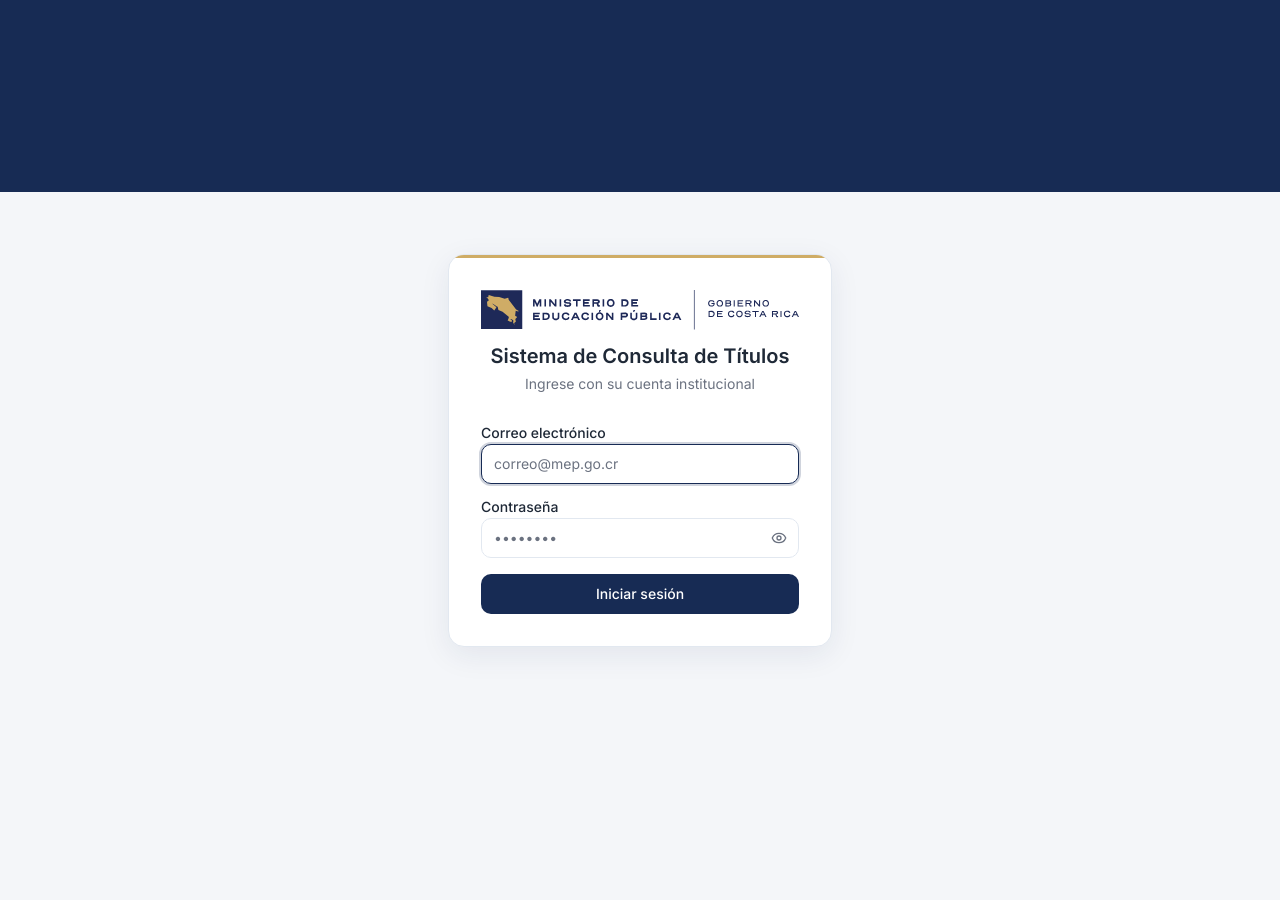
Iniciar sesión › no expone el comando de desarrollo en el error de configuración
Type "a@mep.go.cr" into the field labelled "Correo electrónico" at [640, 464], box left=481, top=444, right=799, bottom=484
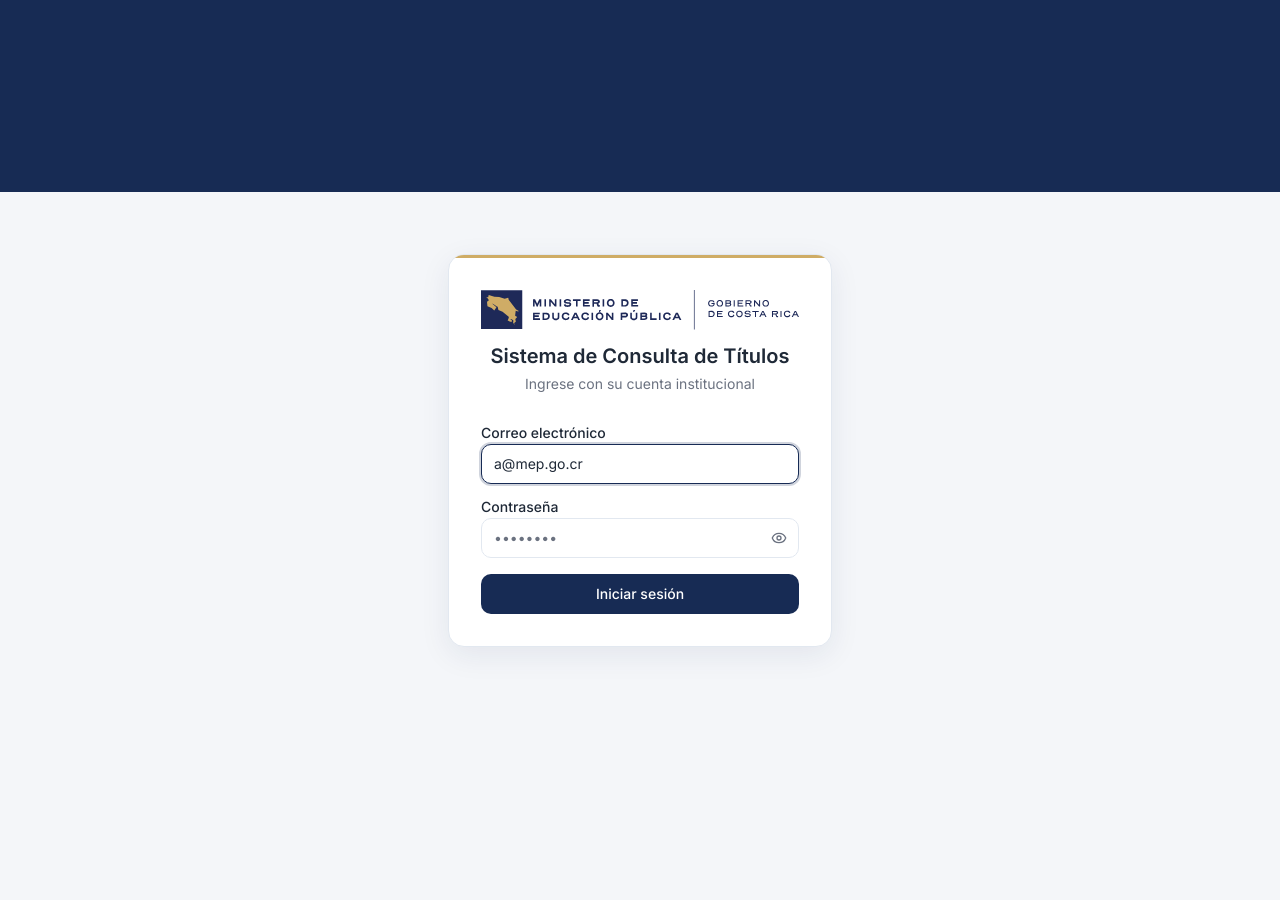
Type "secreto" into the password field labelled "Contraseña" at [640, 538], box left=481, top=518, right=799, bottom=558
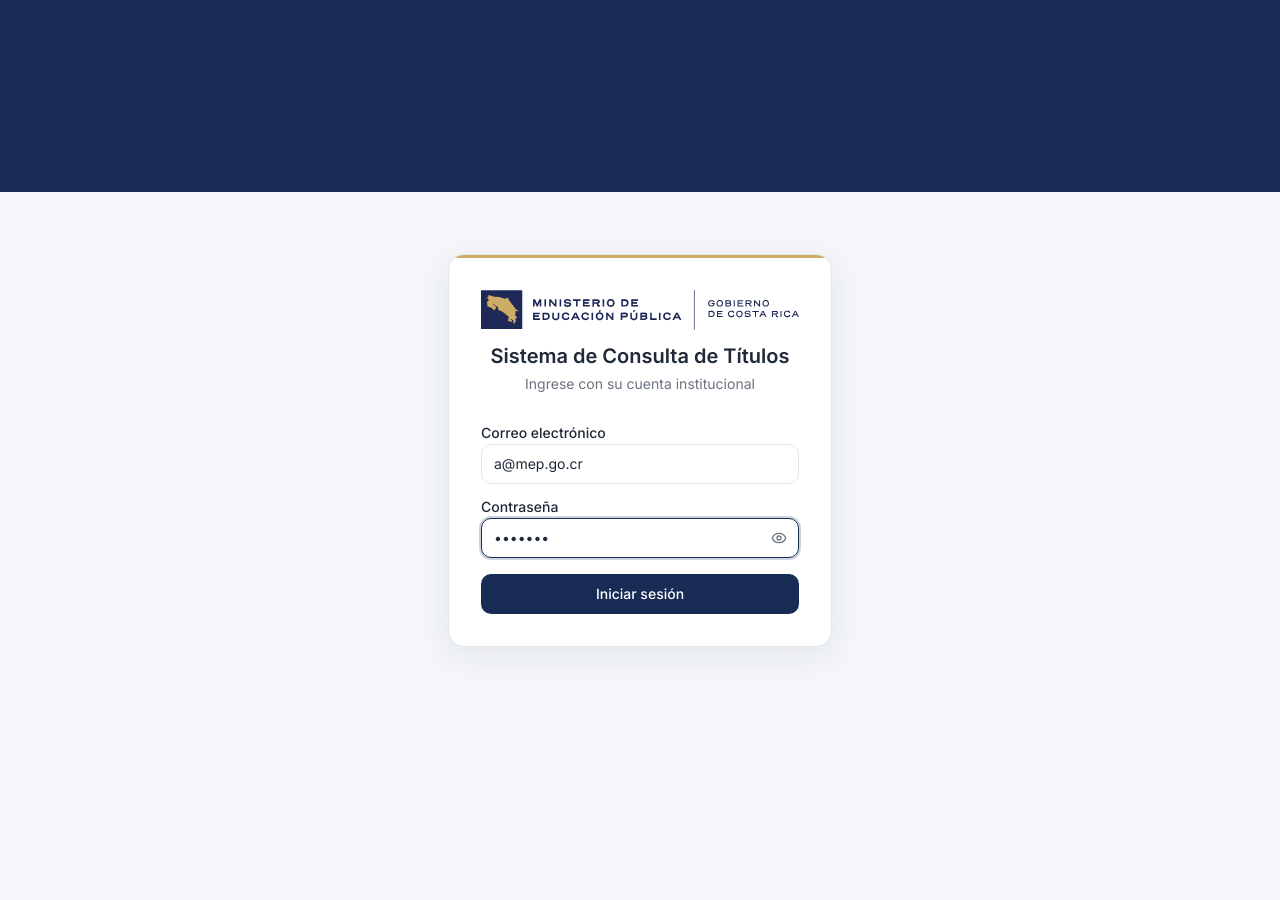
Click the button "Iniciar sesión" at [640, 594], box left=481, top=574, right=799, bottom=614
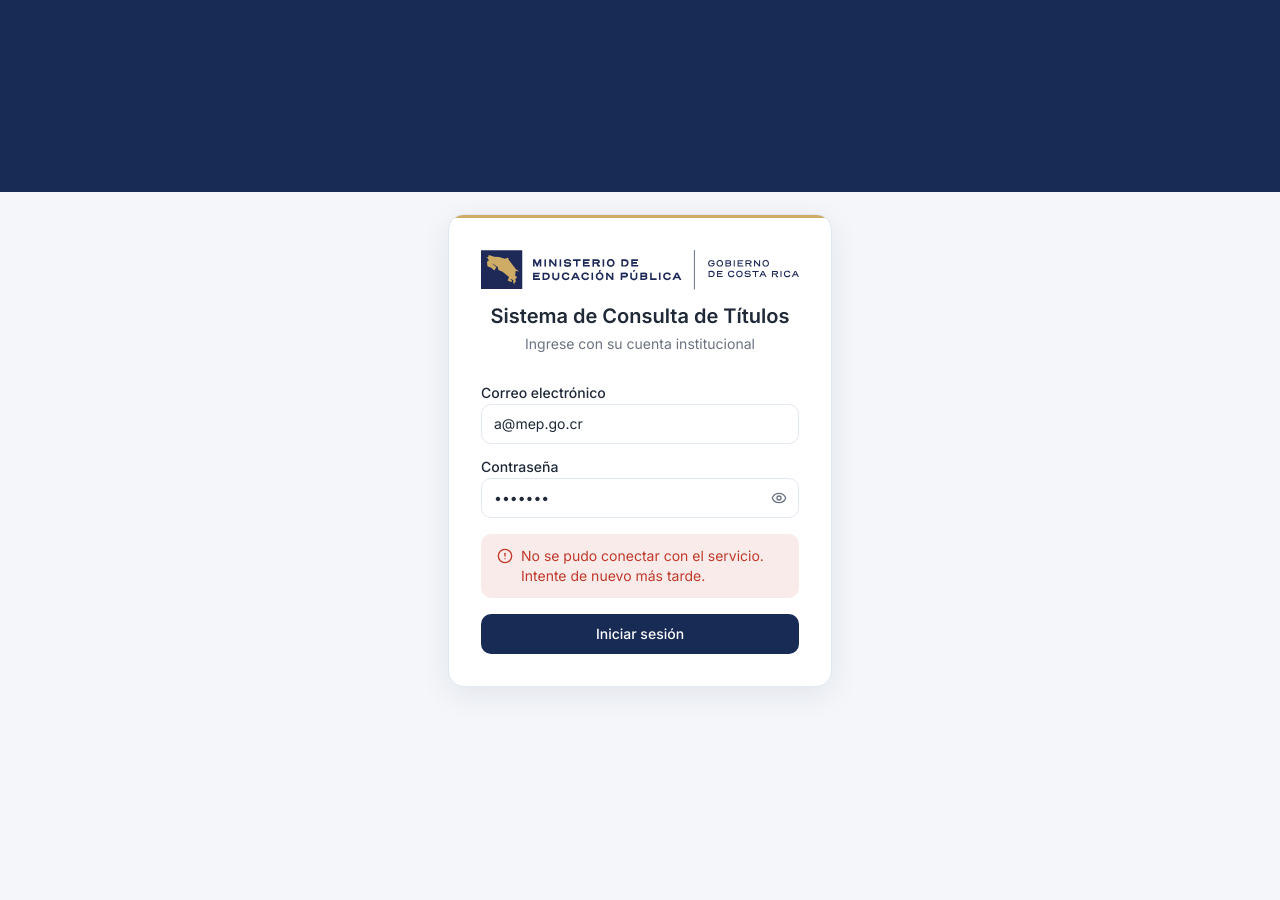
Check: the message does not show "db:sembrar", box left=481, top=534, right=799, bottom=598
Check: the message reads "No se pudo conectar con el servicio. Intente de nuevo más tarde.", box left=521, top=546, right=764, bottom=584
